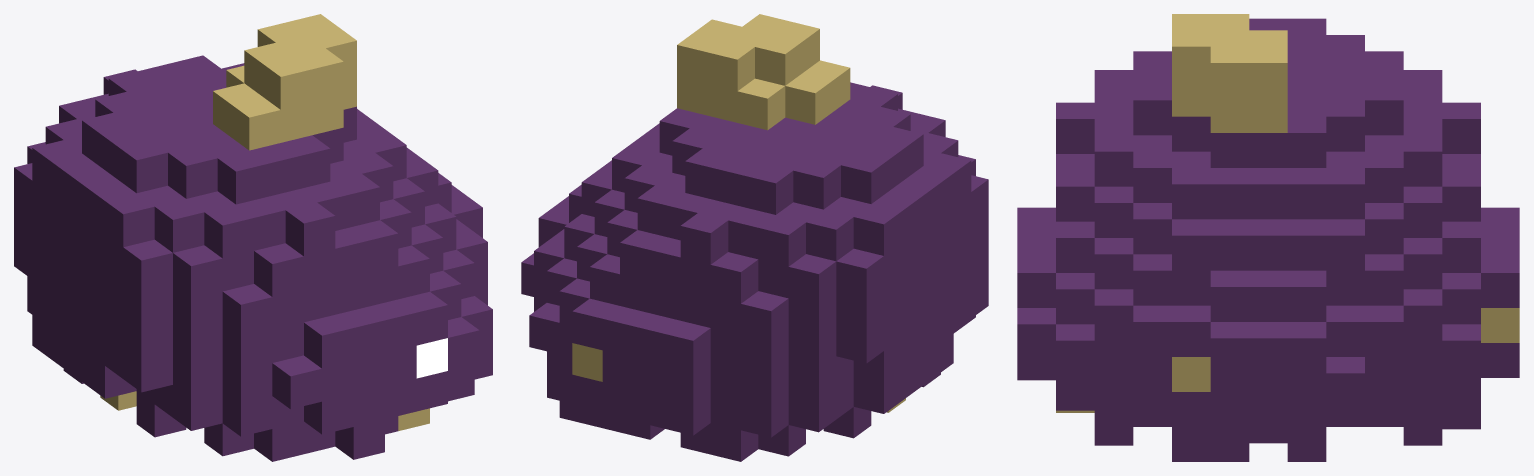
The model's file is mystic_epic_shoulder_L_lod1.glb.
3 renders of one model, left to right at view 1: azimuth 30°, elevation 25°; view 2: azimuth 150°, elevation 25°; view 3: azimuth 270°, elevation 25°, orthographic. The views are drawn at different scales.
Visible parts, largest first — view 1: mystic_epic_shoulder_L_lod1; view 2: mystic_epic_shoulder_L_lod1; view 3: mystic_epic_shoulder_L_lod1.
Boxes of the visible parts, bbox=[...] form: mystic_epic_shoulder_L_lod1: bbox=[14, 14, 492, 461]; mystic_epic_shoulder_L_lod1: bbox=[521, 14, 988, 461]; mystic_epic_shoulder_L_lod1: bbox=[1017, 14, 1519, 461].
Bounding box in the file's own units: 0.288 × 0.24 × 0.312.
